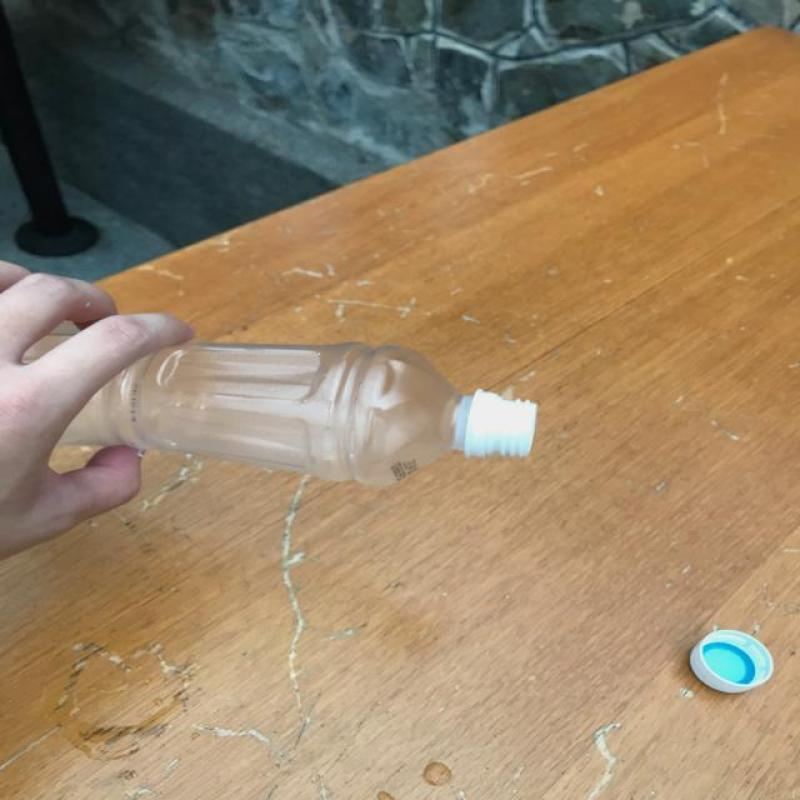botella: (0, 333, 619, 485)
